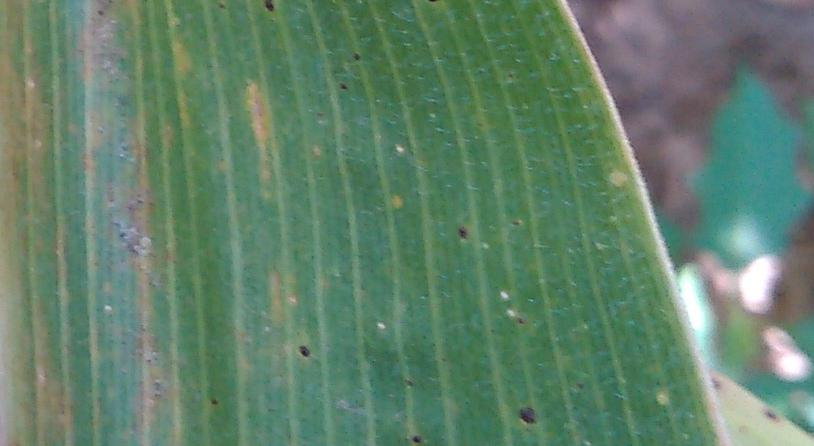tarspot: (516, 404, 538, 426), (297, 342, 314, 359), (400, 373, 415, 391), (348, 47, 364, 63), (507, 214, 524, 229), (573, 378, 588, 394), (113, 226, 129, 240), (458, 222, 469, 242), (409, 433, 424, 446), (93, 3, 105, 19), (263, 1, 276, 14), (209, 395, 221, 408), (516, 314, 527, 328), (216, 1, 228, 13), (336, 81, 349, 92)
